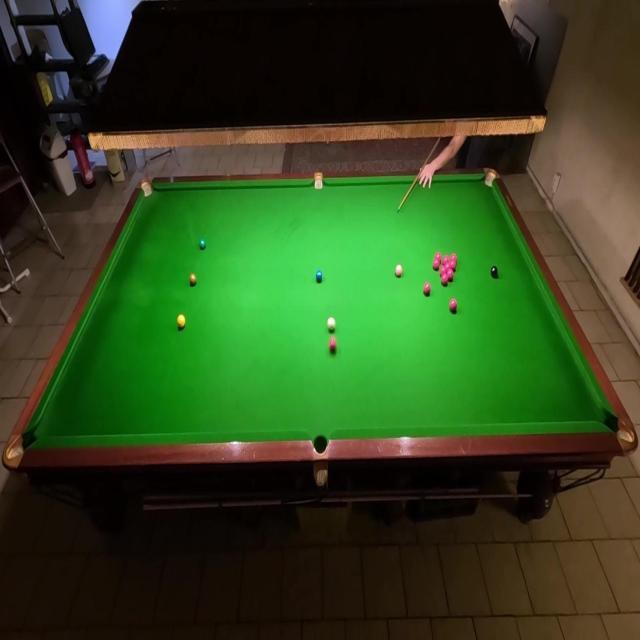Ball: (327, 317, 336, 332), (329, 336, 337, 352), (177, 314, 186, 328), (449, 298, 457, 312), (424, 282, 432, 296), (490, 264, 498, 278), (395, 264, 403, 278), (432, 258, 440, 271), (446, 269, 454, 282), (434, 252, 442, 264), (441, 274, 448, 286), (449, 258, 456, 270), (199, 238, 206, 250), (190, 274, 197, 286), (316, 270, 322, 283), (440, 266, 447, 276), (443, 256, 450, 264), (446, 262, 452, 270), (451, 253, 456, 258)
